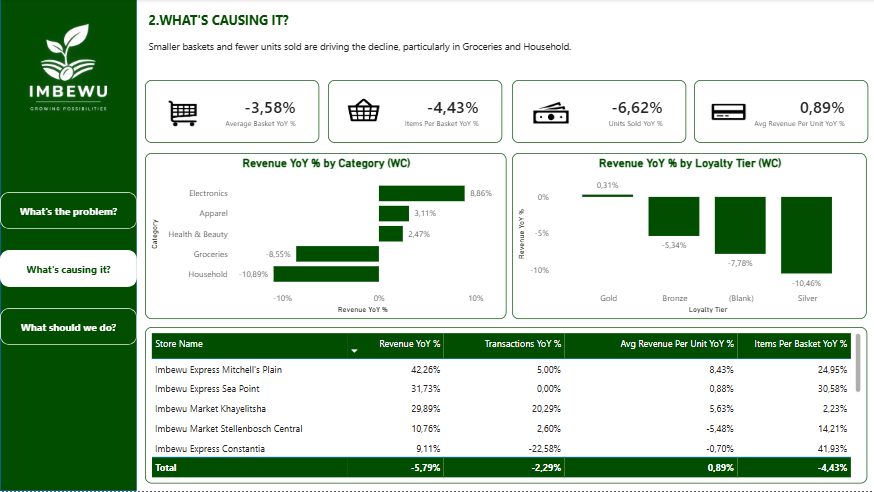

Layout of this report page (visuals, bound fields, positions):
{"tool":"powerbi","page":{"name":"What's causing it?","canvas":[1280,720],"ordinal":1},"visuals":[{"type":"shape","box":[0,0,200.5,720],"z":0},{"type":"image","box":[0,0,200.5,200.5],"z":1000},{"type":"shape","box":[0,282.4,200.5,54.1],"z":2000},{"type":"shape","box":[0,367.3,200.5,54.1],"z":3000},{"type":"shape","box":[0,452.2,200.5,54.1],"z":4000},{"type":"textbox","box":[211.5,12.6,1057.5,88.4],"z":5000},{"type":"cardVisual","fields":{"Data":["Measure.Average Basket YoY %"]},"box":[212.2,118.5,254.6,92.2],"z":6000},{"type":"image","box":[223.9,137.6,90.7,62.9],"z":7000},{"type":"cardVisual","fields":{"Data":["Measure.Items Per Basket YoY %"]},"box":[480,118.5,254.6,92.2],"z":8000},{"type":"cardVisual","fields":{"Data":["Measure.Units Sold YoY %","Measure.Units Sold YoY %"]},"box":[749.3,118.5,254.6,92.2],"z":9000},{"type":"cardVisual","fields":{"Data":["Measure.Average Revenue Per Unit YoY %"]},"box":[1015.6,118.5,254.6,92.2],"z":10000},{"type":"image","box":[769.8,133.2,74.6,62.9],"z":11000},{"type":"image","box":[1028.8,133.2,74.6,62.9],"z":12000},{"type":"image","box":[497.6,133.2,74.6,62.9],"z":13000},{"type":"tableEx","title":"Revenue YoY % by Province ","fields":{"Values":["stores.store_name","Measure.Revenue YoY %","Measure.Transactions YoY %","Measure.Average Revenue Per Unit YoY %","Measure.Items Per Basket YoY %"]},"box":[211.5,479.8,1057.5,228.9],"z":14000},{"type":"barChart","title":"Revenue YoY % by Category (WC)","fields":{"Category":["products.category"],"Y":["Measure.Revenue YoY %"]},"box":[211.5,225.7,528.7,243.1],"z":15000},{"type":"columnChart","title":"Revenue YoY % by Loyalty Tier (WC)","fields":{"Y":["Measure.Revenue YoY %"],"Category":["customers.loyalty_tier"]},"box":[749.7,225.7,519.3,243.1],"z":16000}]}

Visuals, with their boxes in screenshot pixels (x1, y1, x2, y2), scaled from the page's 1280x720 canvas onto the 874x492 screenshot:
shape: (x1=0, y1=0, x2=137, y2=491)
image: (x1=0, y1=0, x2=137, y2=137)
shape: (x1=0, y1=193, x2=137, y2=230)
shape: (x1=0, y1=251, x2=137, y2=288)
shape: (x1=0, y1=309, x2=137, y2=346)
textbox: (x1=144, y1=9, x2=866, y2=69)
cardVisual - Measure.Average Basket YoY %: (x1=145, y1=81, x2=319, y2=144)
image: (x1=153, y1=94, x2=215, y2=137)
cardVisual - Measure.Items Per Basket YoY %: (x1=328, y1=81, x2=502, y2=144)
cardVisual - Measure.Units Sold YoY % x Measure.Units Sold YoY %: (x1=512, y1=81, x2=685, y2=144)
cardVisual - Measure.Average Revenue Per Unit YoY %: (x1=693, y1=81, x2=867, y2=144)
image: (x1=526, y1=91, x2=577, y2=134)
image: (x1=702, y1=91, x2=753, y2=134)
image: (x1=340, y1=91, x2=391, y2=134)
"Revenue YoY % by Province " tableEx: (x1=144, y1=328, x2=866, y2=484)
"Revenue YoY % by Category (WC)" barChart: (x1=144, y1=154, x2=505, y2=320)
"Revenue YoY % by Loyalty Tier (WC)" columnChart: (x1=512, y1=154, x2=866, y2=320)
